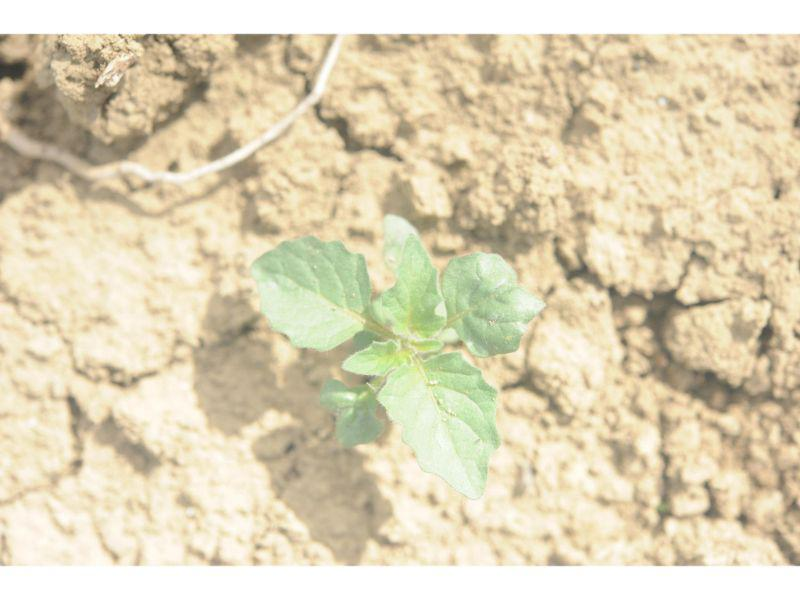nightshade: (245, 218, 548, 502)
